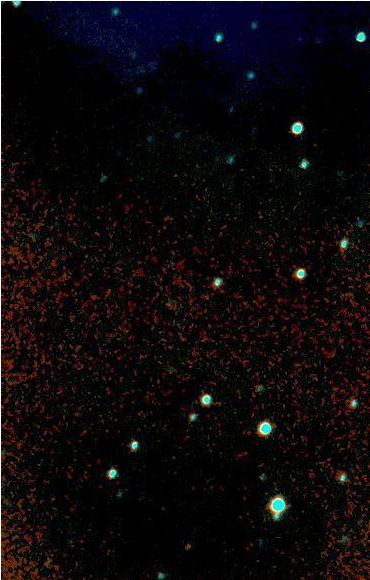star: (172, 530, 202, 560)
